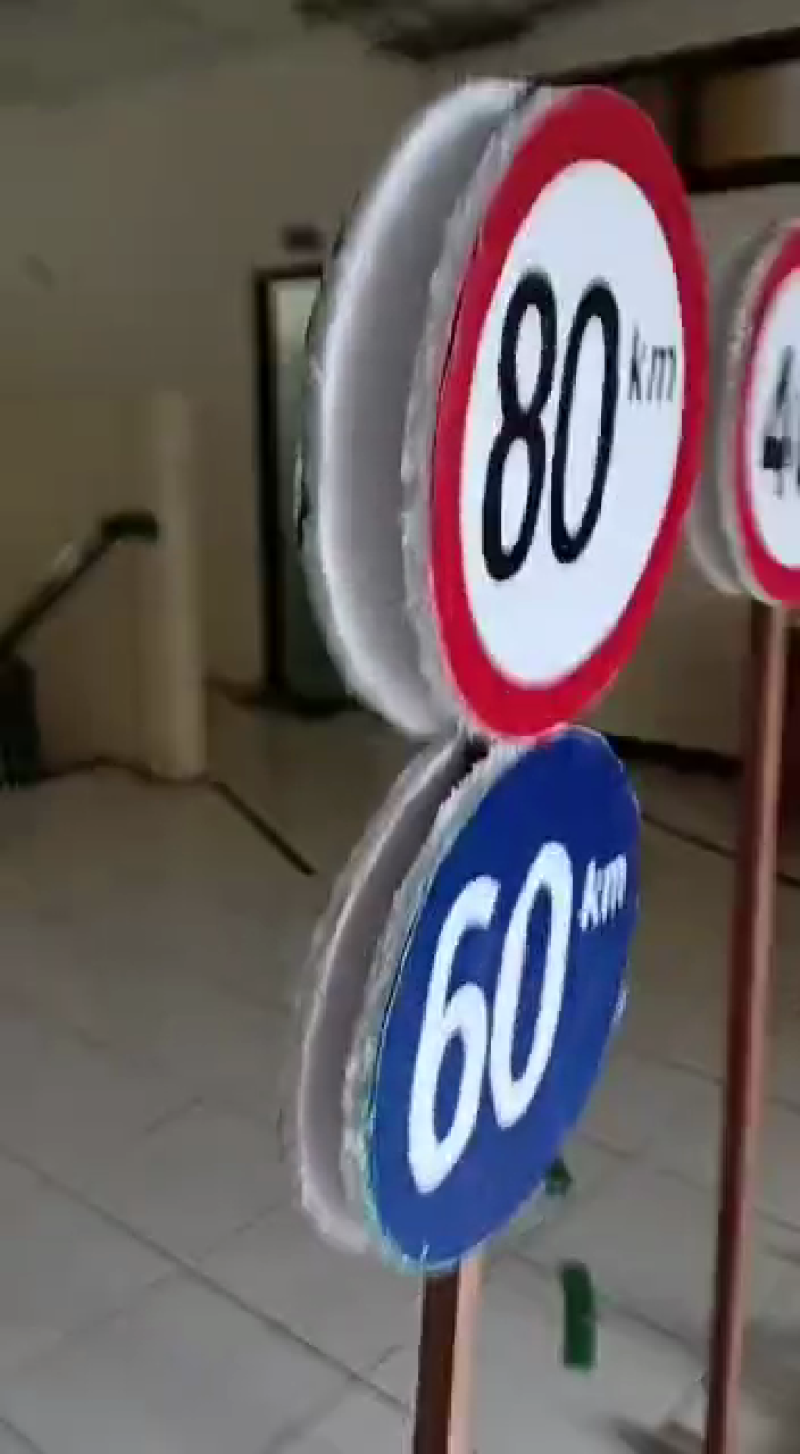batas maksimal 80kmperjam minimal 60kmperjam: (334, 80, 715, 1273)
